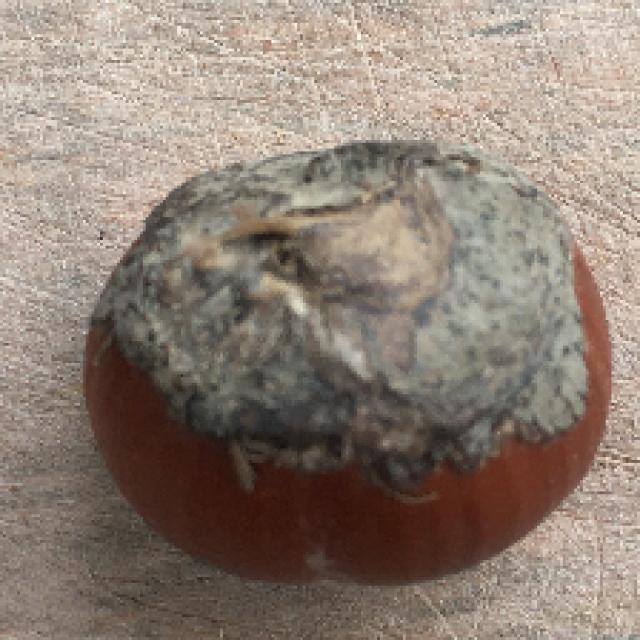damagedHazelnut: (84, 123, 621, 589)
